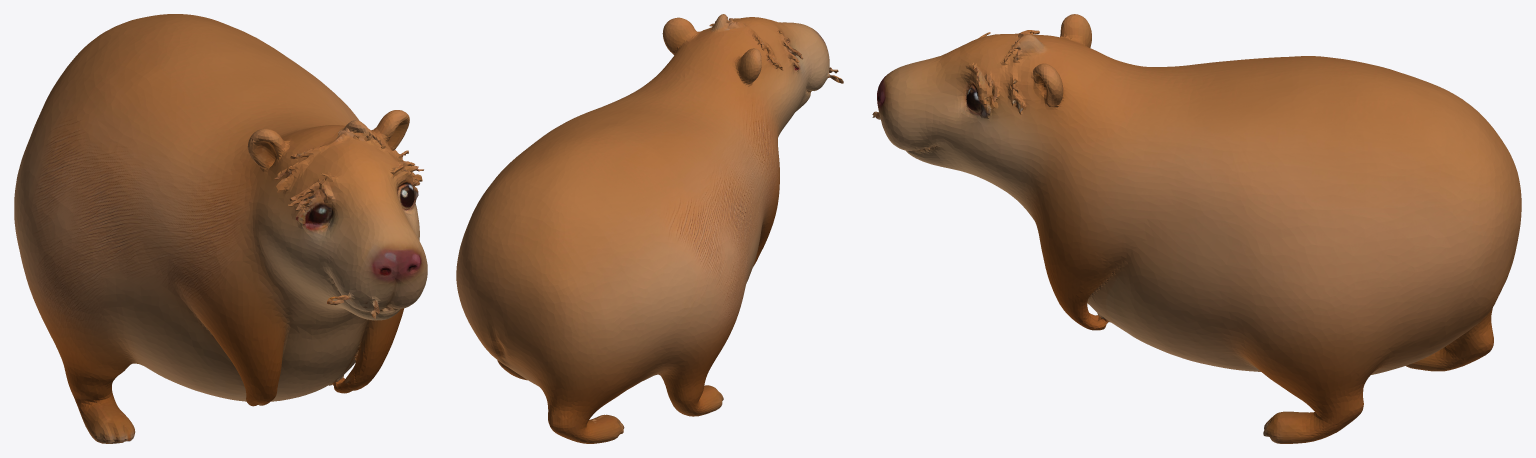
File: capybara_old.glb
3 renders of one model, left to right at view 1: azimuth 30°, elevation 25°; view 2: azimuth 150°, elevation 25°; view 3: azimuth 270°, elevation 25°, orthographic. The views are drawn at different scales.
Parts seen in each view (by area): view 1: textured_mesh.obj; view 2: textured_mesh.obj; view 3: textured_mesh.obj.
Boxes of the visible parts, <box> form: textured_mesh.obj: <box>14,14,427,443</box>; textured_mesh.obj: <box>456,14,843,443</box>; textured_mesh.obj: <box>872,14,1521,443</box>.
Bounding box in the file's own units: 1.03 × 1.21 × 1.97.
1 material, 1 textured.
